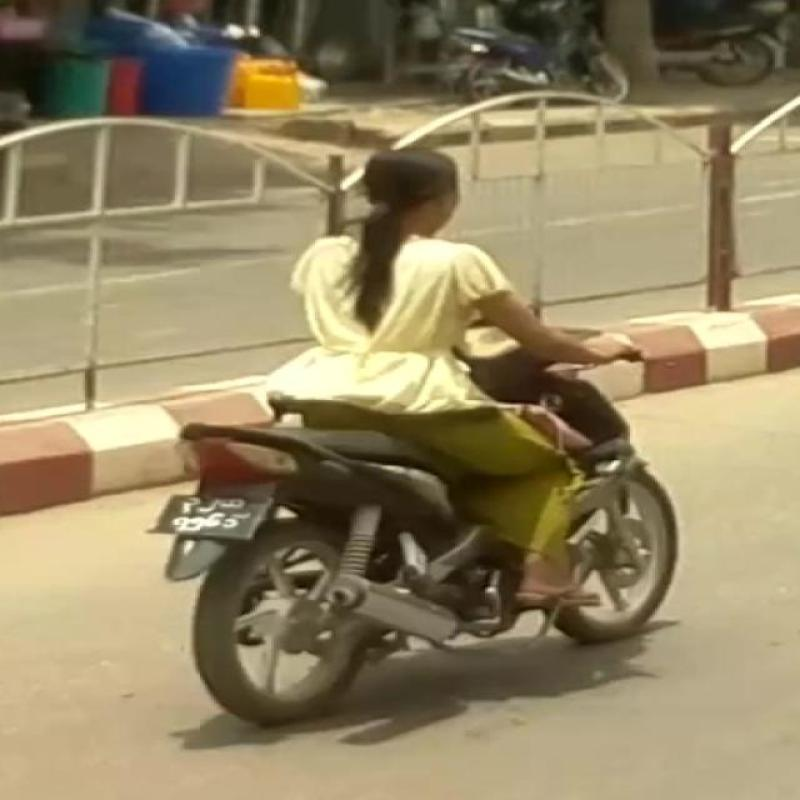nohelmet: (331, 140, 524, 250)
